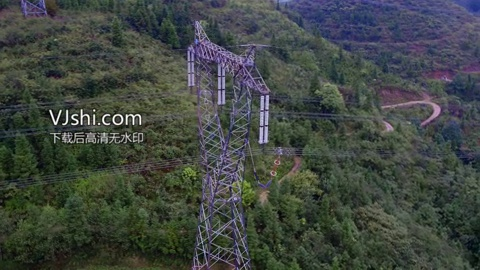tower_body: (174, 16, 274, 270)
tower_foot: (191, 235, 258, 270)
tower_head: (180, 19, 270, 195)
